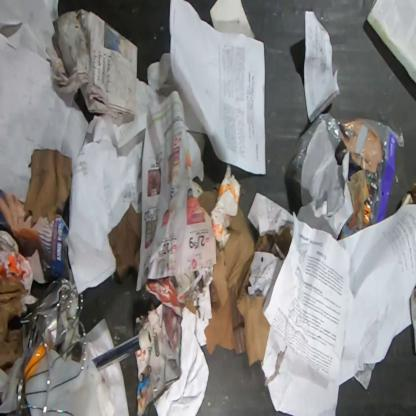cardboard: (203, 201, 293, 367), (0, 276, 29, 372)
metal: (16, 276, 87, 415), (92, 326, 155, 372)
soft_plastic: (292, 113, 405, 230)
